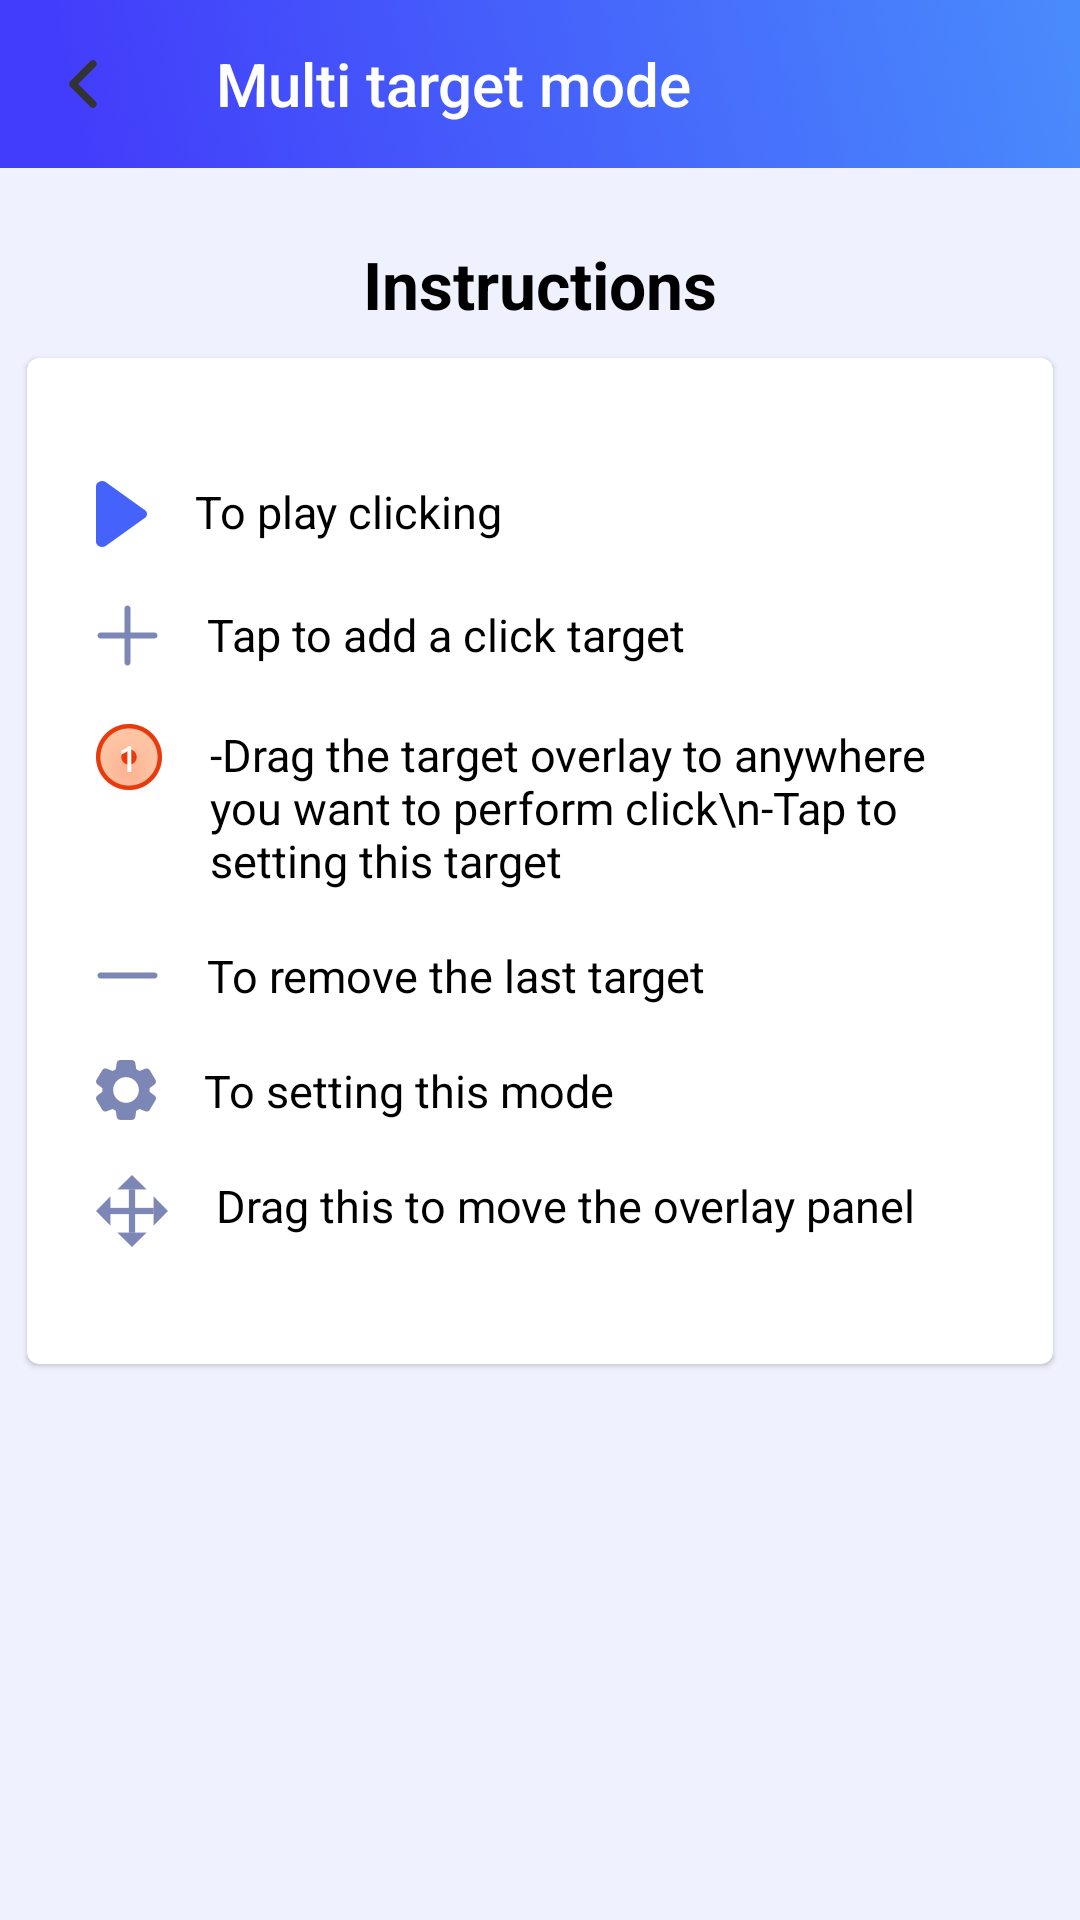

Named icons in this screenshot (1080 x 1920) and their bounding boxes, (x1, y1, x2, y2):
settings: (96, 1060, 156, 1120)
